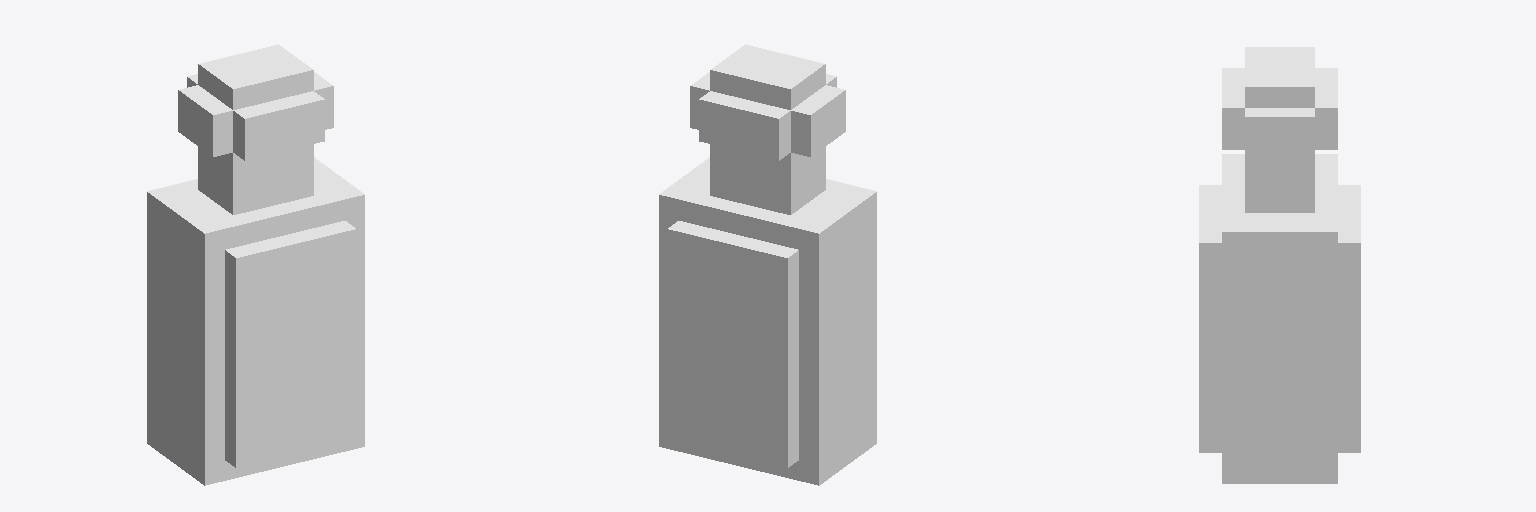
Rendered from bottle04.obj.
The picture shows the model from 3 angles: view 1: azimuth 30°, elevation 25°; view 2: azimuth 150°, elevation 25°; view 3: azimuth 270°, elevation 25°; orthographic projection.
Size of the model in its own units: 8 by 18 by 7.